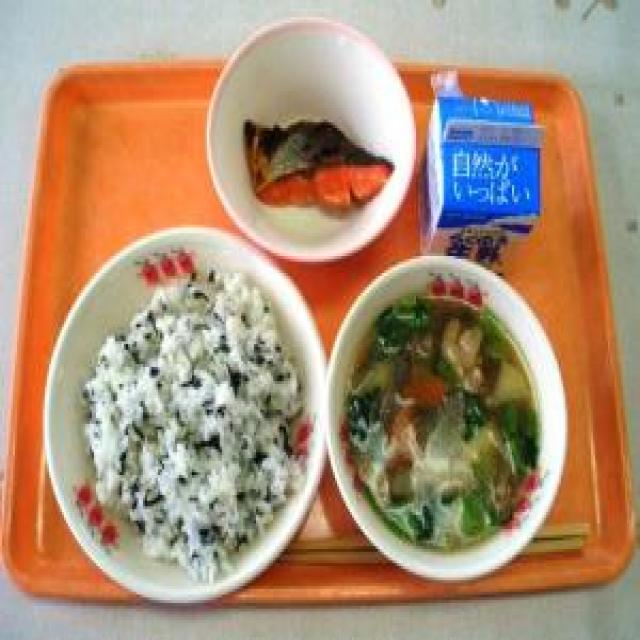熟制海鲜: (224, 94, 390, 216)
